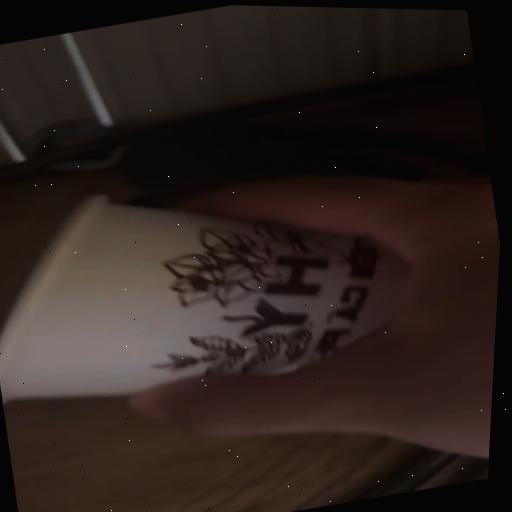Ly_giay: (0, 196, 405, 404)
